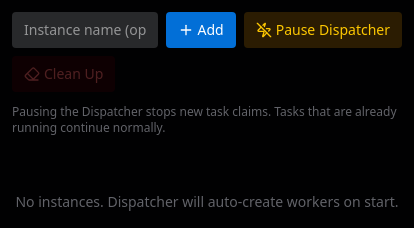
Test: InstanceGrid safety controls › requires confirmation before pausing and refreshes status from the server
Click the button "Pause Dispatcher".
click(323, 30)  # box [244, 12, 402, 48]
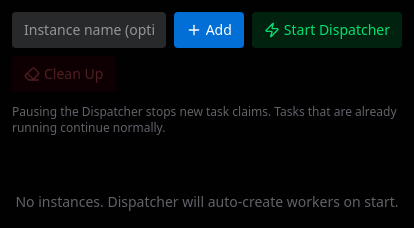
Expected: the button "Start Dispatcher" is shown, [252, 12, 402, 48]
